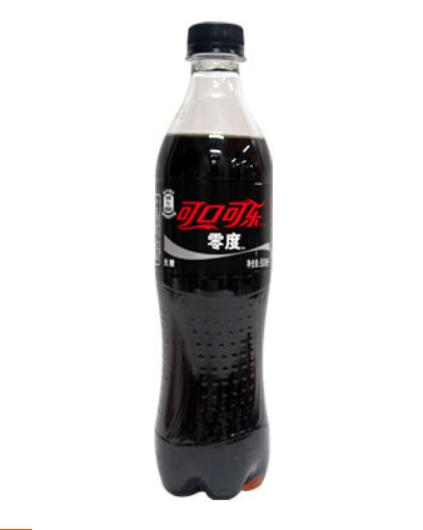coke_zero: (143, 17, 282, 504)
